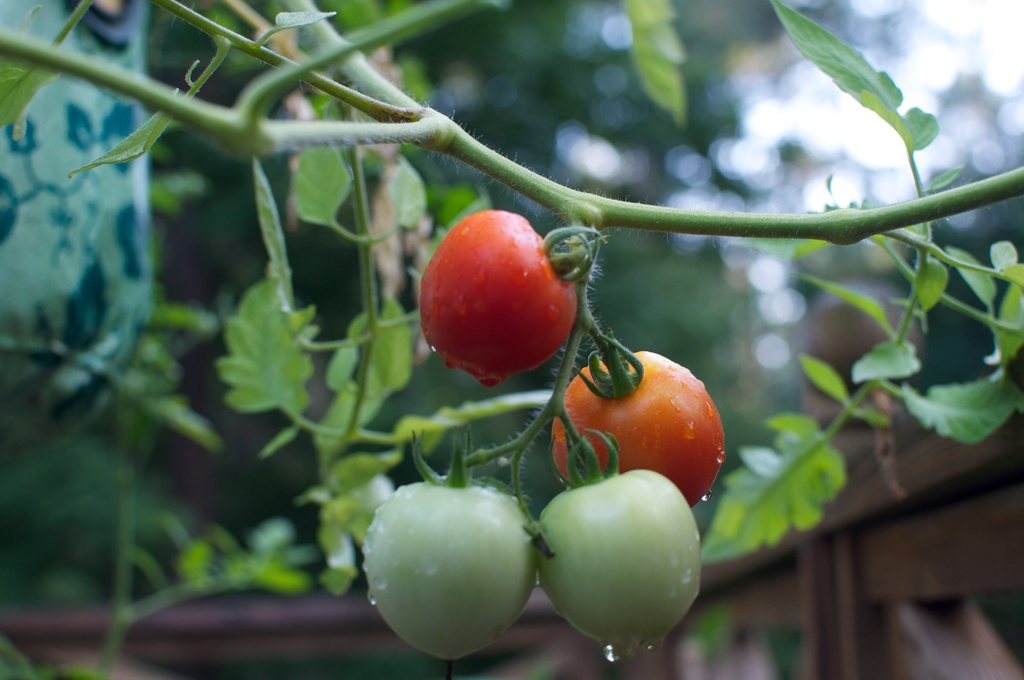Tomato: (370, 439, 531, 662), (538, 432, 700, 653), (558, 347, 728, 512), (423, 208, 577, 380)
